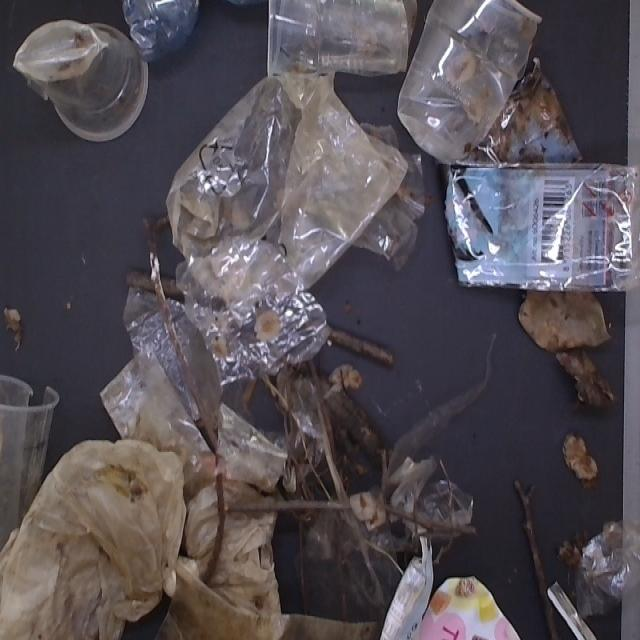food_wrapping: (390, 560, 549, 640)
pet_pottles: (117, 0, 215, 59)
plastic_cups: (14, 5, 157, 157), (409, 2, 532, 163), (255, 0, 420, 81), (0, 362, 62, 565)
plastic_films: (182, 50, 404, 332), (436, 168, 640, 302), (154, 230, 326, 366), (567, 515, 640, 636)
